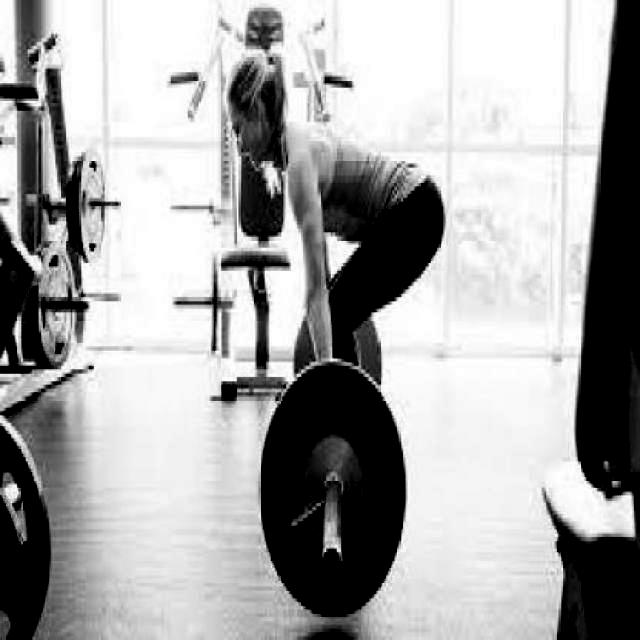barbell: (252, 354, 412, 625)
